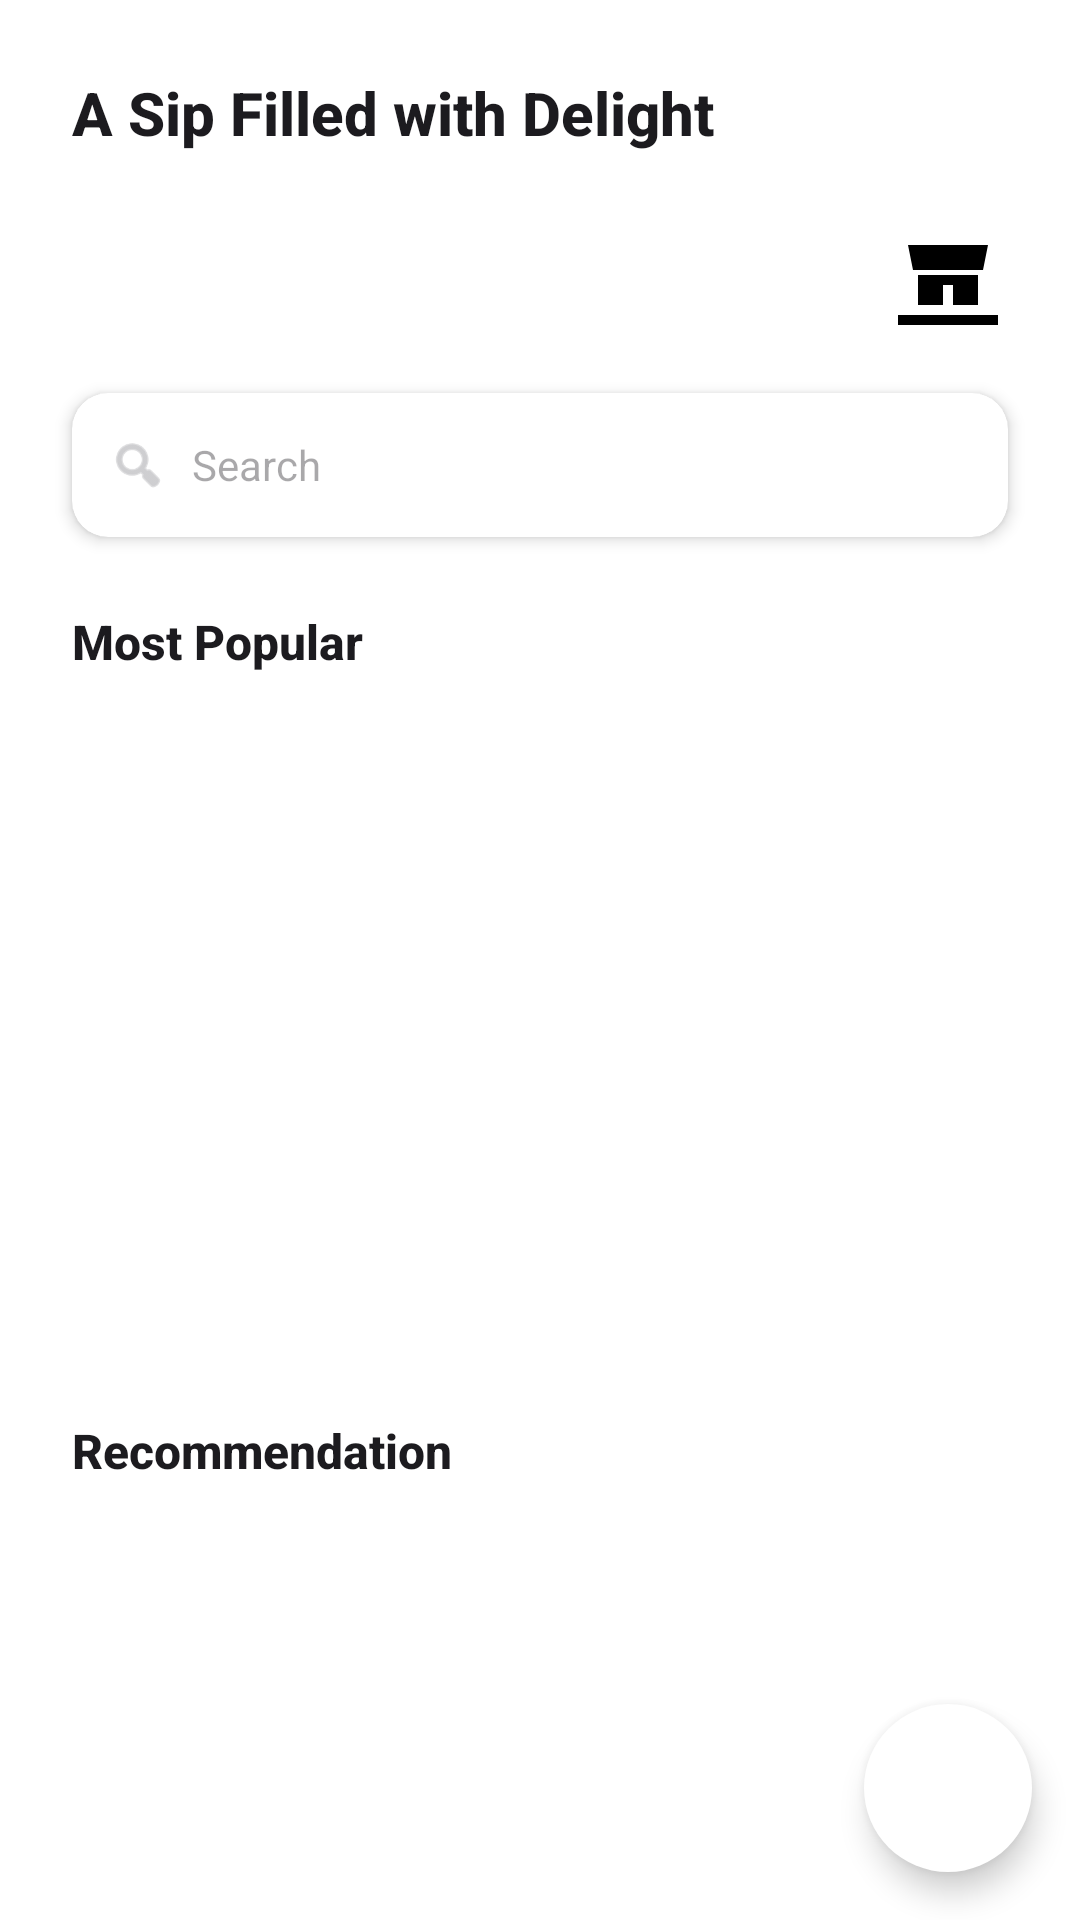

Icons on this 1080*1920 Android screen, each with its box as bbox(x1, y1, x2, y2):
Icon cửa hàng: bbox(898, 245, 998, 325)
